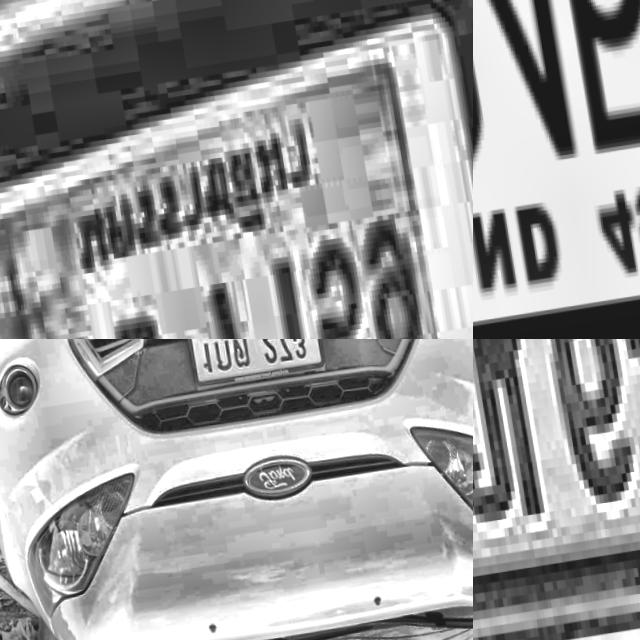license-plate: (0, 0, 473, 339), (473, 0, 640, 339), (473, 339, 640, 640), (175, 339, 327, 395)
